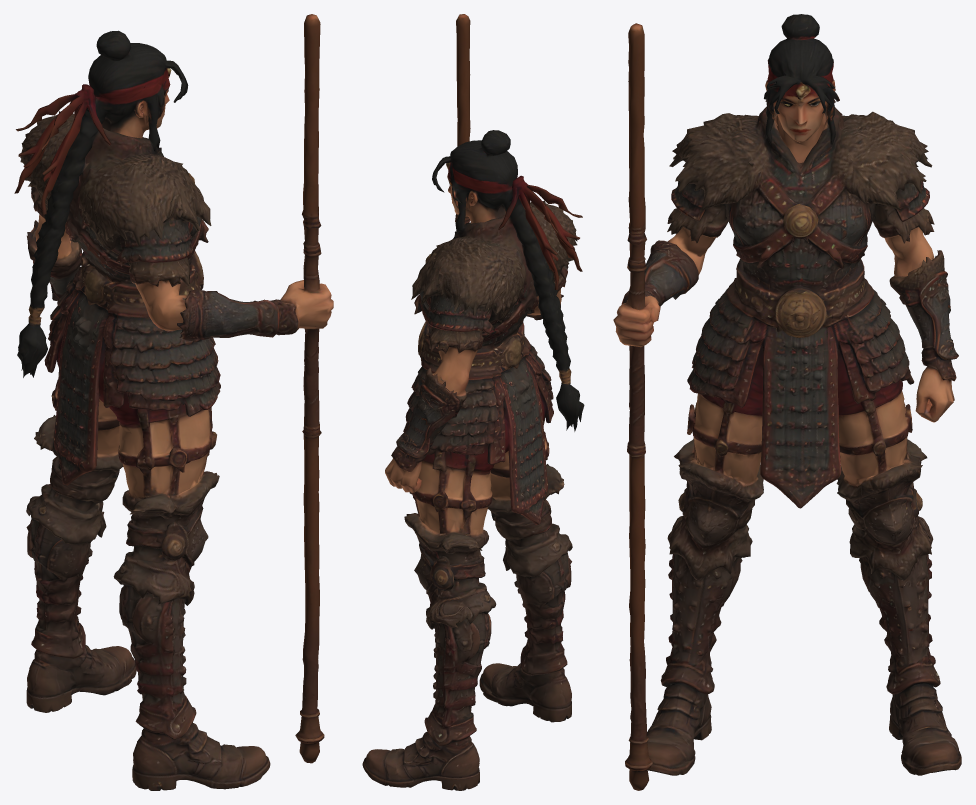
File: vanguardalt-TulGorak-tripo.glb
3 views of the same model, side by side, from view 1: azimuth 30°, elevation 25°; view 2: azimuth 150°, elevation 25°; view 3: azimuth 270°, elevation 25° (orthographic). The views are drawn at different scales.
Visible parts, largest first — view 1: tripo_node_0c08271b-b947-4ad7-9eab-91054106e5f2; view 2: tripo_node_0c08271b-b947-4ad7-9eab-91054106e5f2; view 3: tripo_node_0c08271b-b947-4ad7-9eab-91054106e5f2.
Boxes of the visible parts, x1,y1,x2,y2 form: tripo_node_0c08271b-b947-4ad7-9eab-91054106e5f2: [14, 14, 333, 790]; tripo_node_0c08271b-b947-4ad7-9eab-91054106e5f2: [362, 14, 584, 790]; tripo_node_0c08271b-b947-4ad7-9eab-91054106e5f2: [613, 14, 961, 790].
Bounding box in the file's own units: 0.3233 × 1 × 0.4076.
1 material, 1 textured.
